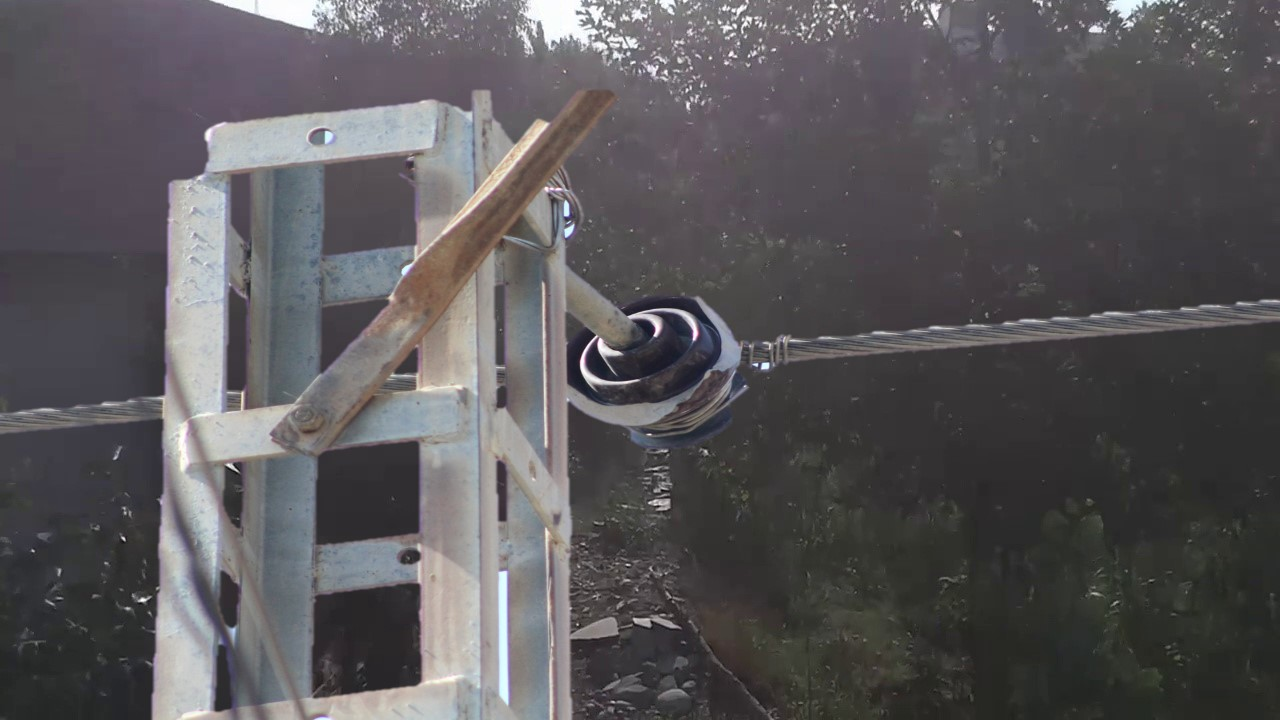defect_pin: (562, 292, 756, 461)
